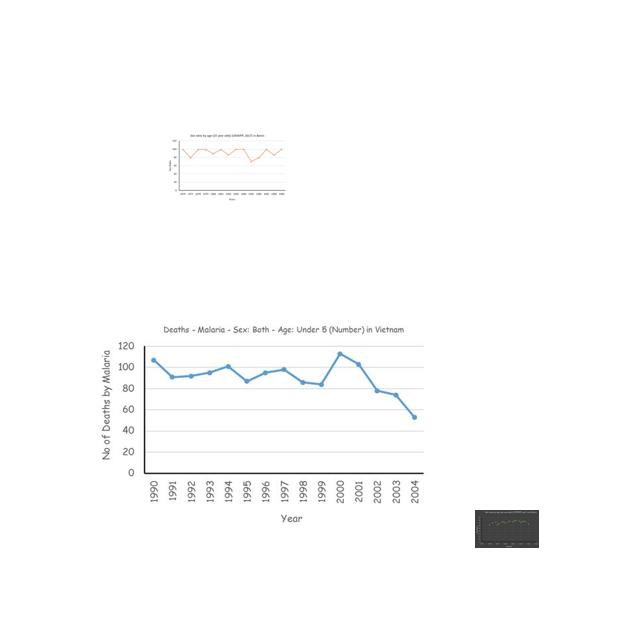Graph: (97, 320, 428, 527), (166, 130, 289, 203), (475, 510, 539, 548)
